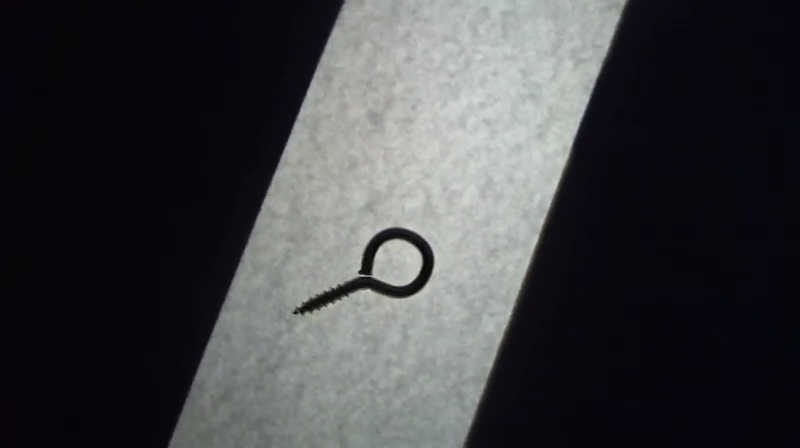O001: (288, 223, 445, 318)
